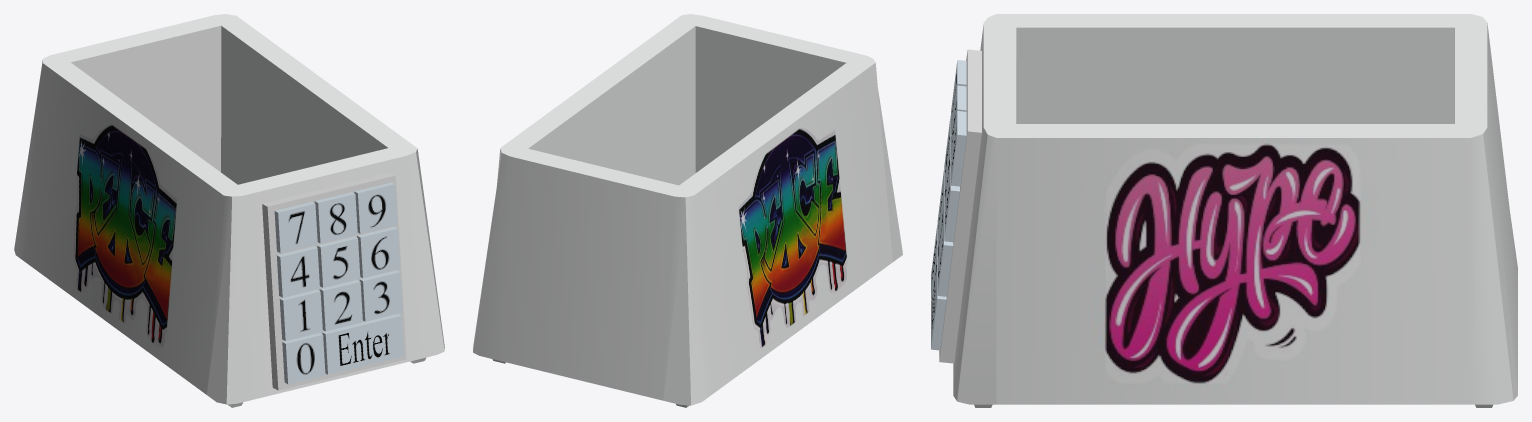
Rendered from Toaster.fbx.
3 views of the same model, side by side, from view 1: azimuth 30°, elevation 25°; view 2: azimuth 150°, elevation 25°; view 3: azimuth 270°, elevation 25° (orthographic). The views are drawn at different scales.
Parts seen in each view (by area): view 1: Toaster, NumPad, NumPlate, Enter; view 2: Toaster; view 3: Toaster, NumPlate, NumPad, Enter.
Part boxes in pixels (bbox=[...]): Toaster: bbox=[14, 14, 444, 407]; NumPad: bbox=[274, 182, 402, 384]; NumPlate: bbox=[262, 172, 406, 390]; Enter: bbox=[322, 314, 403, 374]; Toaster: bbox=[473, 14, 902, 407]; Toaster: bbox=[953, 14, 1517, 407]; NumPlate: bbox=[939, 49, 981, 363]; NumPad: bbox=[931, 60, 966, 298]; Enter: bbox=[931, 250, 946, 350].
Size of the model in its own units: 61.63 by 53.31 by 105.
2 materials, 2 textured.
